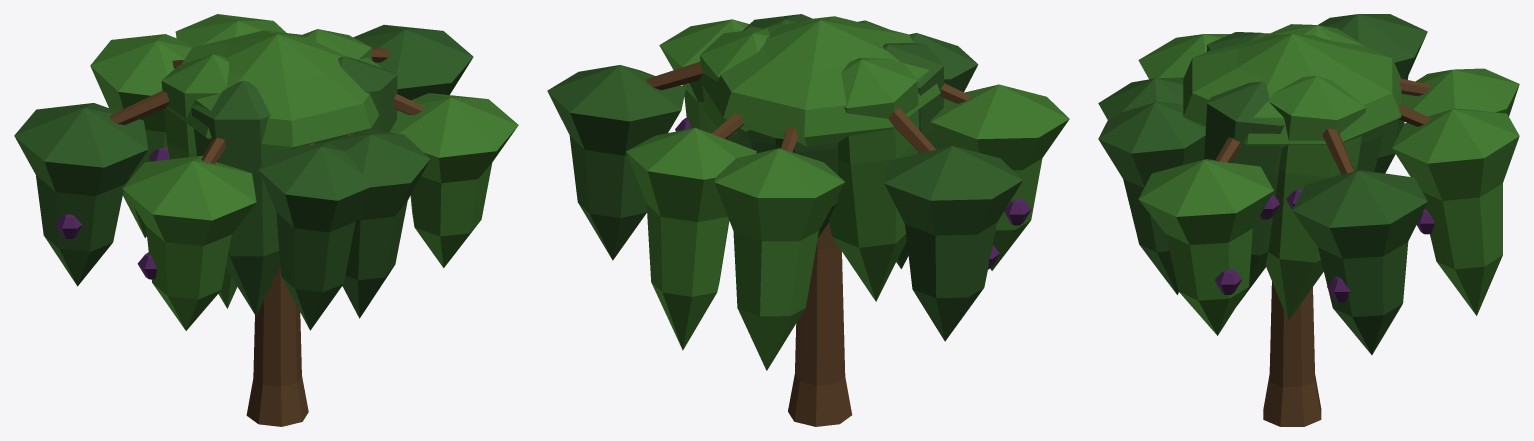
Rendered from plum_tree.gltf.
3 views of the same model, side by side, from view 1: azimuth 30°, elevation 25°; view 2: azimuth 150°, elevation 25°; view 3: azimuth 270°, elevation 25° (orthographic). The views are drawn at different scales.
Visible parts, largest first — view 1: plum_tree; view 2: plum_tree; view 3: plum_tree.
Boxes of the visible parts, x1,y1,x2,y2 form: plum_tree: (14, 14, 518, 426); plum_tree: (547, 14, 1069, 426); plum_tree: (1098, 14, 1519, 426).
Size of the model in its own units: 3.94 by 3.33 by 3.34.
